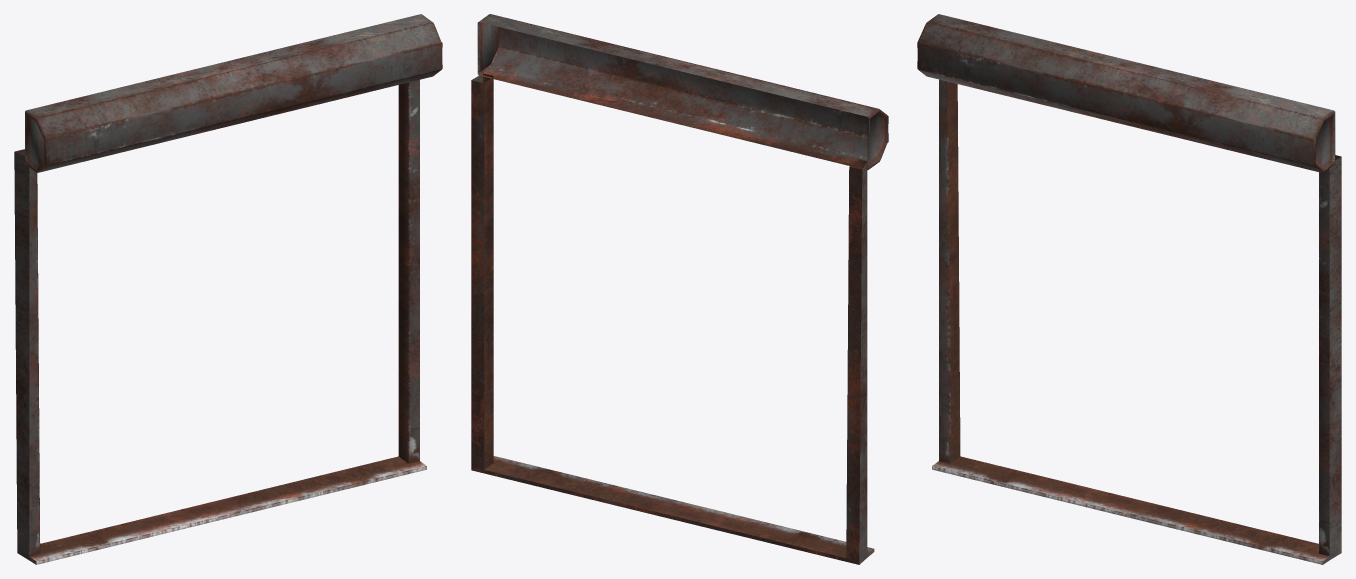
The model's file is SM_RollerDoorLV4Part1_A.glb.
The picture shows the model from 3 angles, left to right: view 1: azimuth 30°, elevation 25°; view 2: azimuth 150°, elevation 25°; view 3: azimuth 330°, elevation 25°; orthographic projection.
Visible parts, largest first — view 1: SM_RollerDoorLV4Part1_A; view 2: SM_RollerDoorLV4Part1_A; view 3: SM_RollerDoorLV4Part1_A.
Part boxes in pixels (x1=…): SM_RollerDoorLV4Part1_A: x1=14, y1=14, x2=442, y2=564; SM_RollerDoorLV4Part1_A: x1=471, y1=14, x2=888, y2=564; SM_RollerDoorLV4Part1_A: x1=917, y1=14, x2=1341, y2=564.
Bounding box in the file's own units: 3.76 × 4.04 × 0.478.
Materials: 1 (1 with a texture image).
